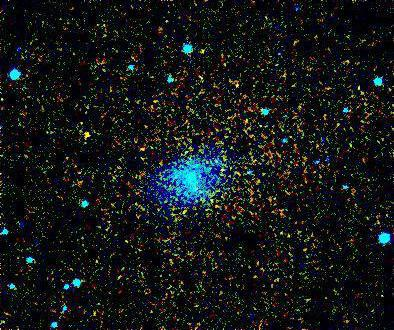star: (67, 121, 97, 151)
